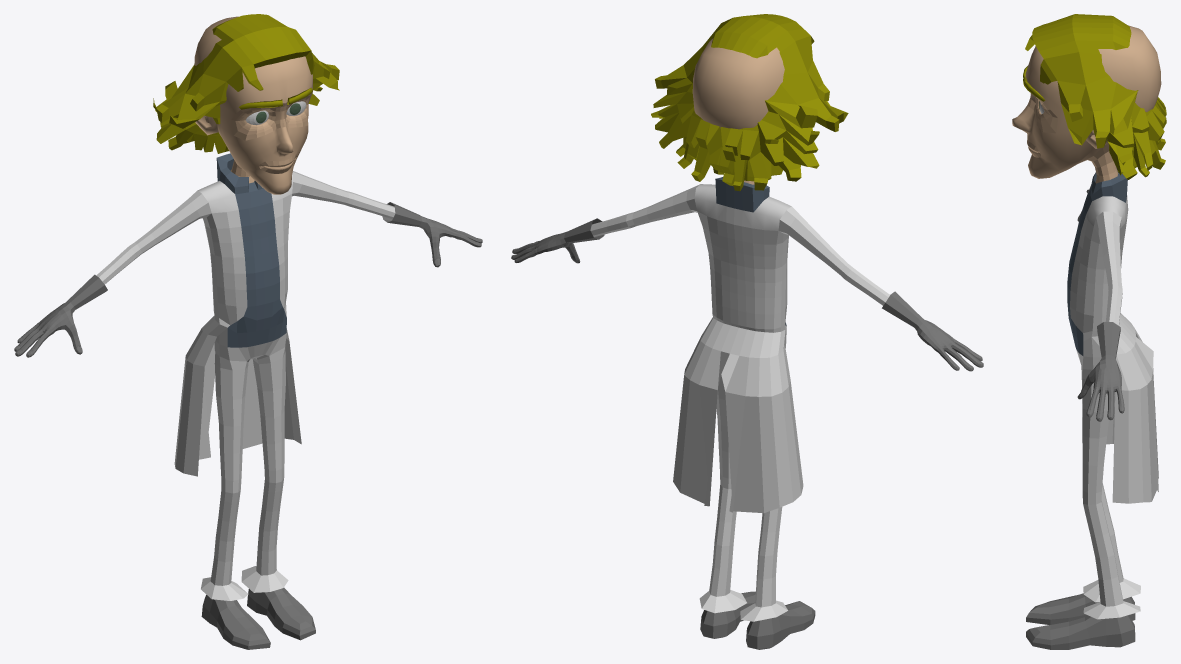
Rendered from Scientist.fbx.
3 renders of one model, left to right at view 1: azimuth 30°, elevation 25°; view 2: azimuth 150°, elevation 25°; view 3: azimuth 270°, elevation 25°, orthographic.
Parts seen in each view (by area): view 1: toon_scientist_toon_scientist_Cloth_28, toon_scientist_toon_scientist_Hair1, toon_scientist_toon_scientist_Cloth_31, toon_scientist_toon_scientist_skin, toon_scientist_toon_scientist_Cloth_27, toon_scientist_toon_scientist_Cloth_24, toon_scientist_toon_scientist_Cloth_21, toon_scientist_toon_scientist_Cloth_25, toon_scientist_toon_scientist_Cloth_6, toon_scientist_toon_scientist_skin13, toon_scientist_toon_scientist_Cloth_30, toon_scientist_toon_scientist_Cloth_23 (+5 smaller); view 2: toon_scientist_toon_scientist_Cloth_31, toon_scientist_toon_scientist_Hair1, toon_scientist_toon_scientist_Cloth_28, toon_scientist_toon_scientist_skin, toon_scientist_toon_scientist_Cloth_24, toon_scientist_toon_scientist_Cloth_27, toon_scientist_toon_scientist_Cloth_21, toon_scientist_toon_scientist_Cloth_1, toon_scientist_toon_scientist_Cloth_6, toon_scientist_toon_scientist_Cloth_30, toon_scientist_toon_scientist_Cloth_29, toon_scientist_toon_scientist_Cloth_8 (+1 smaller); view 3: toon_scientist_toon_scientist_Hair1, toon_scientist_toon_scientist_Cloth_31, toon_scientist_toon_scientist_skin, toon_scientist_toon_scientist_Cloth_28, toon_scientist_toon_scientist_Cloth_27, toon_scientist_toon_scientist_Cloth_24, toon_scientist_toon_scientist_Cloth_21, toon_scientist_toon_scientist_skin13, toon_scientist_toon_scientist_Cloth_29, toon_scientist_toon_scientist_Cloth_1, toon_scientist_toon_scientist_Cloth_6, toon_scientist_toon_scientist_Cloth_30 (+3 smaller).
Boxes of the visible parts, x1,y1,x2,y2 form: toon_scientist_toon_scientist_Cloth_28: (96, 172, 395, 585); toon_scientist_toon_scientist_Hair1: (153, 14, 339, 153); toon_scientist_toon_scientist_Cloth_31: (174, 315, 301, 600); toon_scientist_toon_scientist_skin: (194, 16, 312, 194); toon_scientist_toon_scientist_Cloth_27: (201, 587, 315, 649); toon_scientist_toon_scientist_Cloth_24: (204, 211, 289, 325); toon_scientist_toon_scientist_Cloth_21: (14, 215, 482, 357); toon_scientist_toon_scientist_Cloth_25: (244, 266, 282, 320); toon_scientist_toon_scientist_Cloth_6: (189, 171, 302, 228); toon_scientist_toon_scientist_skin13: (231, 92, 312, 176); toon_scientist_toon_scientist_Cloth_30: (68, 202, 421, 309); toon_scientist_toon_scientist_Cloth_23: (241, 218, 277, 256); toon_scientist_toon_scientist_Cloth_31: (673, 317, 803, 621); toon_scientist_toon_scientist_Hair1: (651, 14, 848, 191); toon_scientist_toon_scientist_Cloth_28: (590, 189, 889, 607); toon_scientist_toon_scientist_skin: (692, 38, 784, 129); toon_scientist_toon_scientist_Cloth_24: (702, 227, 788, 329); toon_scientist_toon_scientist_Cloth_27: (700, 591, 815, 649); toon_scientist_toon_scientist_Cloth_21: (511, 231, 983, 371); toon_scientist_toon_scientist_Cloth_1: (694, 184, 791, 230); toon_scientist_toon_scientist_Cloth_6: (686, 184, 800, 280); toon_scientist_toon_scientist_Cloth_30: (564, 218, 921, 327); toon_scientist_toon_scientist_Cloth_29: (715, 177, 769, 212); toon_scientist_toon_scientist_Cloth_8: (708, 253, 787, 329); toon_scientist_toon_scientist_Hair1: (1025, 14, 1166, 179); toon_scientist_toon_scientist_Cloth_31: (1083, 313, 1158, 619); toon_scientist_toon_scientist_skin: (1012, 25, 1161, 178); toon_scientist_toon_scientist_Cloth_28: (1081, 222, 1123, 606); toon_scientist_toon_scientist_Cloth_27: (1026, 593, 1135, 649); toon_scientist_toon_scientist_Cloth_24: (1070, 230, 1125, 333); toon_scientist_toon_scientist_Cloth_21: (1077, 189, 1124, 421); toon_scientist_toon_scientist_skin13: (1027, 97, 1118, 182); toon_scientist_toon_scientist_Cloth_29: (1090, 168, 1127, 202); toon_scientist_toon_scientist_Cloth_1: (1086, 185, 1127, 228); toon_scientist_toon_scientist_Cloth_6: (1081, 211, 1127, 267); toon_scientist_toon_scientist_Cloth_30: (1097, 322, 1120, 358).
Size of the model in its own units: 1.84 by 2.25 by 0.5188.
